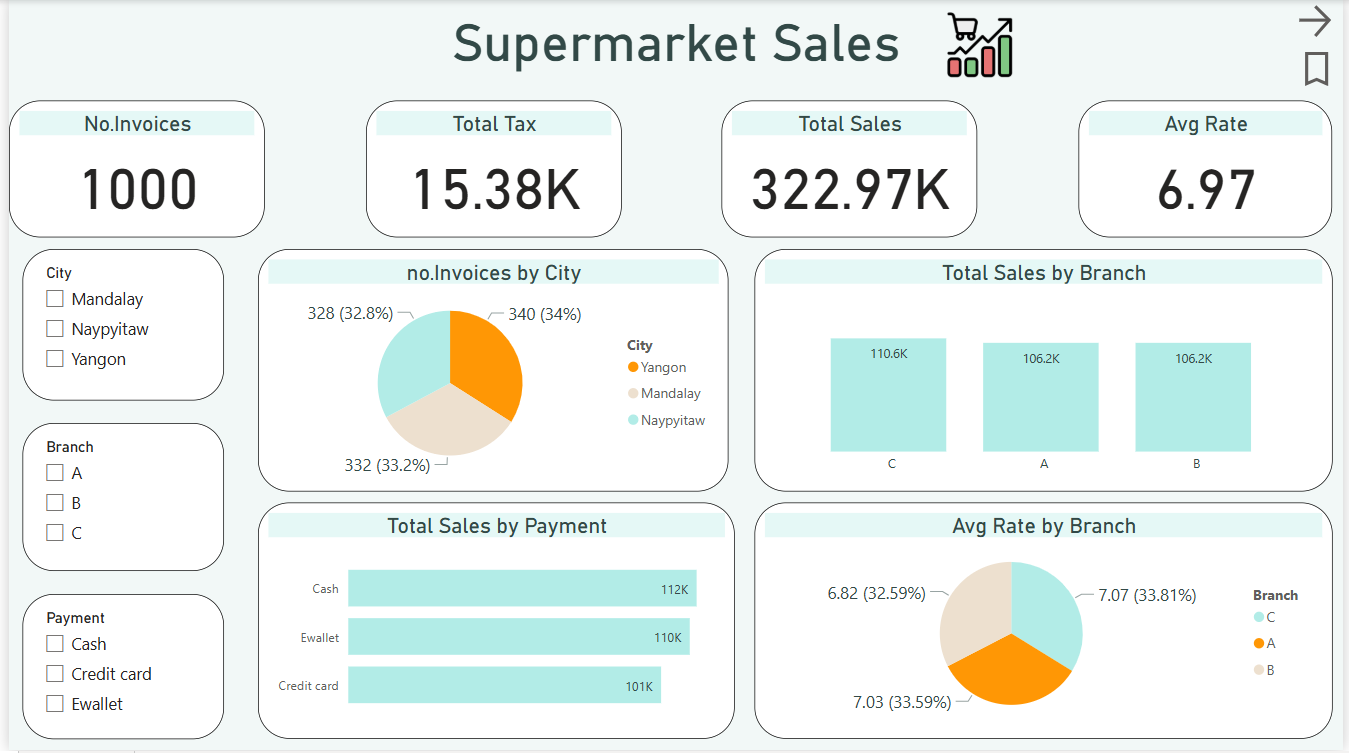

The page's visual inventory and layout, read from the dashboard file:
{"tool":"powerbi","page":{"name":"Sales 1","canvas":[1280,720],"ordinal":0},"visuals":[{"type":"card","title":"No.Invoices","fields":{"Values":["My Measures.no.Invoices"]},"box":[0,96.8,245.2,131.2],"z":0},{"type":"card","title":"Total Tax","fields":{"Values":["My Measures.Total Tax"]},"box":[342,96.8,245.2,131.2],"z":1000},{"type":"card","title":"Total Sales","fields":{"Values":["My Measures.Total Sales"]},"box":[684.1,96.8,245.2,131.2],"z":2000},{"type":"card","title":"Avg Rate","fields":{"Values":["My Measures.Avg Rate"]},"box":[1026.1,96.8,243.6,131.2],"z":3000},{"type":"textbox","title":"Supermarket Sales","box":[0,10.9,1280.7,65.6],"z":4000},{"type":"pieChart","fields":{"Category":["supermarket_sales - Sheet1.City"],"Y":["My Measures.no.Invoices"]},"box":[238.7,239,451.4,232.7],"z":5000},{"type":"slicer","fields":{"Values":["supermarket_sales - Sheet1.City"]},"box":[12.5,239,193.7,145.2],"z":6000},{"type":"slicer","fields":{"Values":["supermarket_sales - Sheet1.Branch"]},"box":[12.5,406.1,193.7,142.1],"z":7000},{"type":"slicer","fields":{"Values":["supermarket_sales - Sheet1.Payment"]},"box":[12.5,570.1,193.7,139],"z":8000},{"type":"columnChart","fields":{"Y":["My Measures.Total Sales"],"Category":["supermarket_sales - Sheet1.Branch"]},"box":[715.3,239,554.4,232.7],"z":9000},{"type":"barChart","fields":{"Y":["My Measures.Total Sales"],"Category":["supermarket_sales - Sheet1.Payment"]},"box":[238.7,482.6,457.6,226.5],"z":10000},{"type":"pieChart","fields":{"Category":["supermarket_sales - Sheet1.Branch"],"Y":["My Measures.Avg Rate"]},"box":[715.3,482.6,554.4,226.5],"z":11000},{"type":"actionButton","box":[1232.3,0,48.4,40.6],"z":12000},{"type":"image","box":[893.4,0,75,85.9],"z":13000},{"type":"actionButton","box":[1232.7,44.1,47.3,42.6],"z":13001}]}

Visuals, with their boxes in screenshot pixels (x1, y1, x2, y2), scaled from the page's 1280x720 canvas onto the 1349x753 screenshot:
"No.Invoices" card: bbox=(0, 101, 258, 238)
"Total Tax" card: bbox=(360, 101, 619, 238)
"Total Sales" card: bbox=(721, 101, 979, 238)
"Avg Rate" card: bbox=(1081, 101, 1338, 238)
"Supermarket Sales" textbox: bbox=(0, 11, 1348, 80)
pieChart - supermarket_sales - Sheet1.City x My Measures.no.Invoices: bbox=(252, 250, 727, 493)
slicer - supermarket_sales - Sheet1.City: bbox=(13, 250, 217, 402)
slicer - supermarket_sales - Sheet1.Branch: bbox=(13, 425, 217, 573)
slicer - supermarket_sales - Sheet1.Payment: bbox=(13, 596, 217, 742)
columnChart - My Measures.Total Sales x supermarket_sales - Sheet1.Branch: bbox=(754, 250, 1338, 493)
barChart - My Measures.Total Sales x supermarket_sales - Sheet1.Payment: bbox=(252, 505, 734, 742)
pieChart - supermarket_sales - Sheet1.Branch x My Measures.Avg Rate: bbox=(754, 505, 1338, 742)
actionButton: bbox=(1299, 0, 1348, 42)
image: bbox=(942, 0, 1021, 90)
actionButton: bbox=(1299, 46, 1348, 91)
